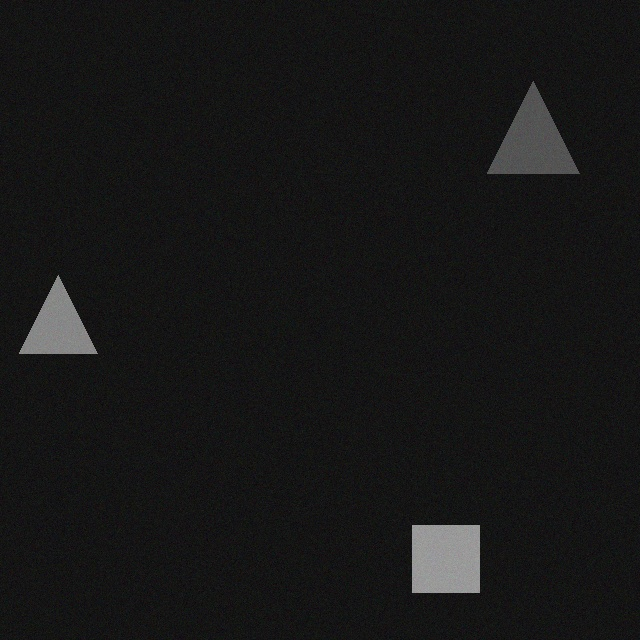square: (407, 518, 474, 585)
triangle: (482, 74, 574, 166), (14, 268, 92, 346)
